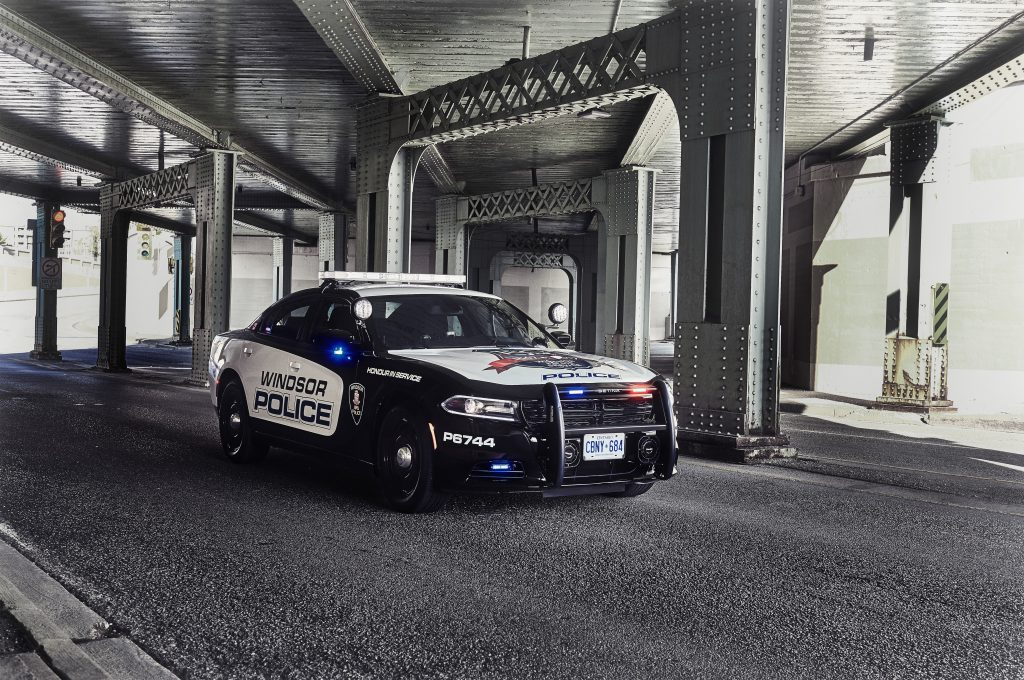special: (209, 267, 678, 517)
